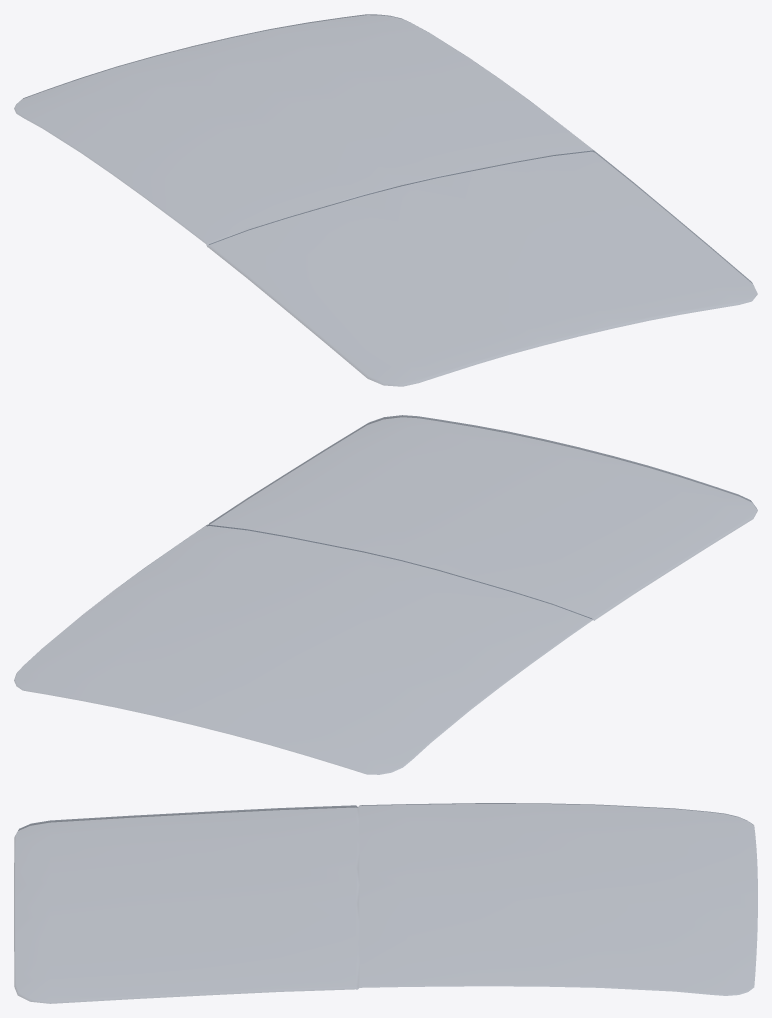
Rendered from Roof_Glass.glb.
3 renders of one model, top to bottom at view 1: azimuth 30°, elevation 25°; view 2: azimuth 150°, elevation 25°; view 3: azimuth 270°, elevation 25°, orthographic. The views are drawn at different scales.
Visible parts, largest first — view 1: Roof_Glass; view 2: Roof_Glass; view 3: Roof_Glass.
Boxes of the visible parts, x1,y1,x2,y2 form: Roof_Glass: [14, 14, 757, 386]; Roof_Glass: [14, 415, 757, 774]; Roof_Glass: [14, 803, 757, 1003].
Size of the model in its own units: 0.7653 by 0.0611 by 1.32.
